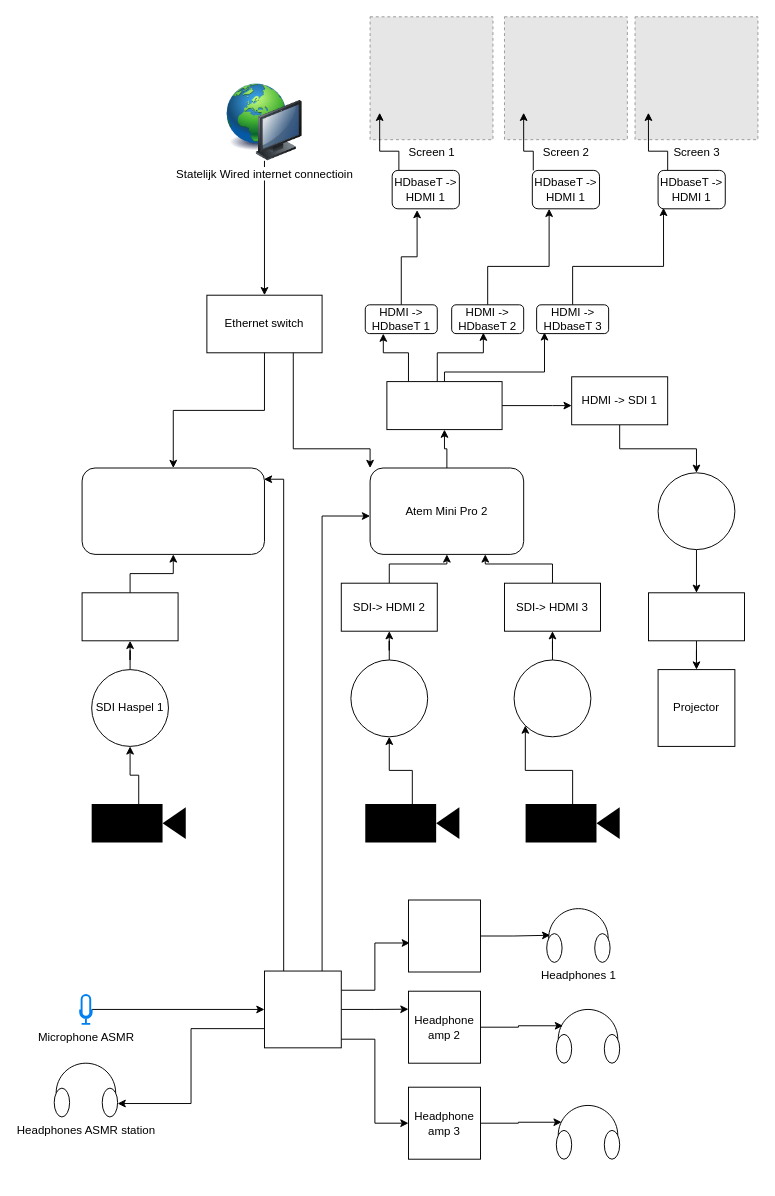
Image size: 775x1196. Some labels were removed from this diagram. Grey dashed boxes stand in for pictures. Each missing label, with the centre of its shape:
"Atem Mini Pro 1" belongs at pixel 172 510.
"Audio mixing desk" belongs at pixel 302 1009.
"HDMI Splitter" belongs at pixel 444 405.
"Headphone amp 1" belongs at pixel 444 935.
"Headphones 2" belongs at pixel 587 1035.
"Headphones 3" belongs at pixel 587 1131.
"SDI Haspel 2" belongs at pixel 389 698.
"SDI Haspel 3" belongs at pixel 552 698.
"SDI Haspel 4" belongs at pixel 696 511.
"SDI-> HDMI 1" belongs at pixel 129 616.
"SDI-> HDMI 4" belongs at pixel 696 616.
